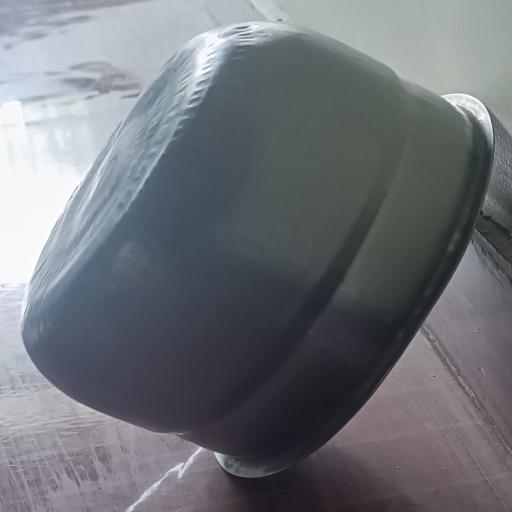vessel: (22, 22, 492, 476)
